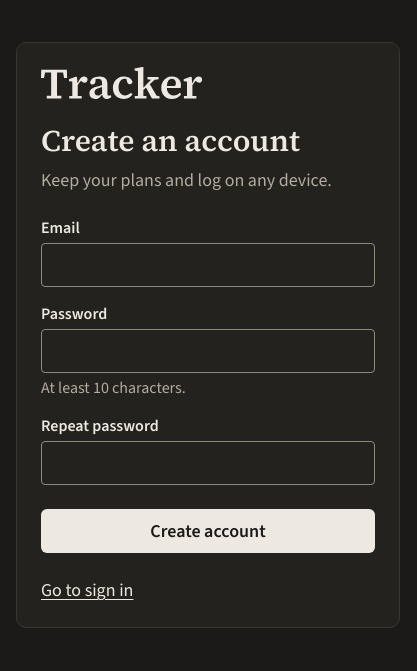
Test case: creating an account › explains a malformed email where it belongs
Type "new@example.com" into the field with id "signup-email" at point(208, 265), box [41,243,375,287]
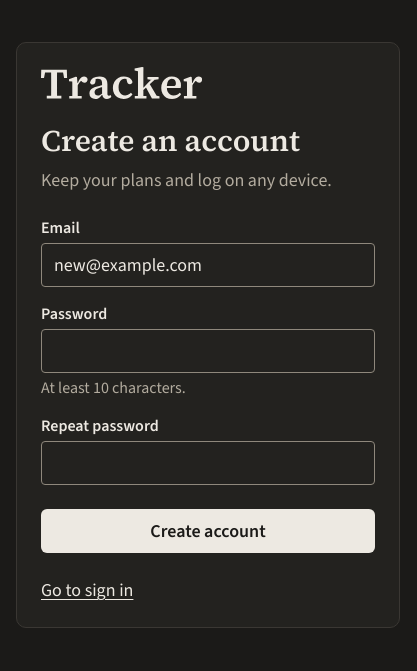
Type "a long new password" into the password field with id "signup-password" at point(208, 351), box [41,329,375,373]
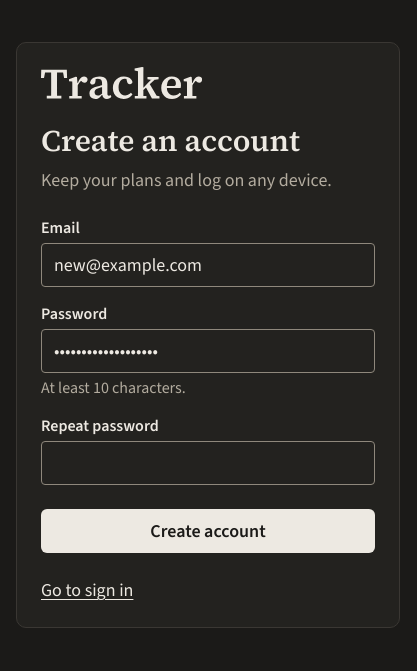
Type "a long new password" into the password field with id "signup-confirm" at point(208, 463), box [41,441,375,485]
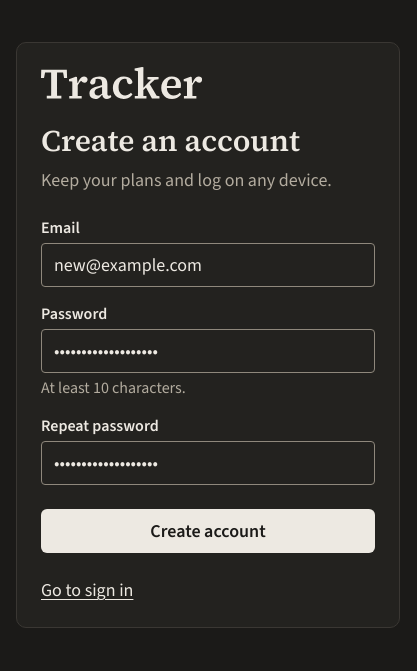
Submit the form, box [41,217,375,553]
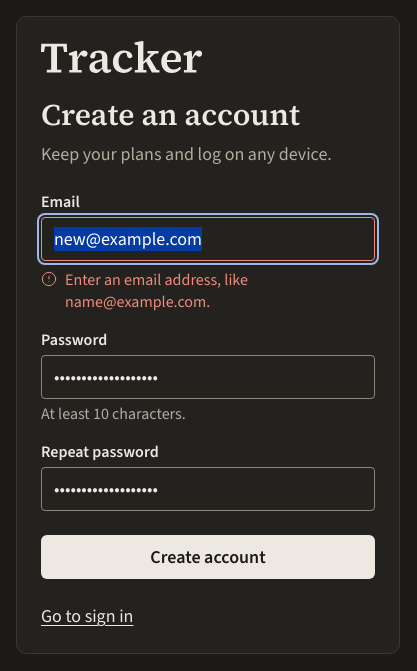
Expected: the heading "Create an account" is shown, [41,94,300,135]
Result: the message with id "signup-email-error" reads "Enter an email address, like name@example.com." at [65,269,248,312]
Result: the number of messages is 1 at [41,269,248,312]
